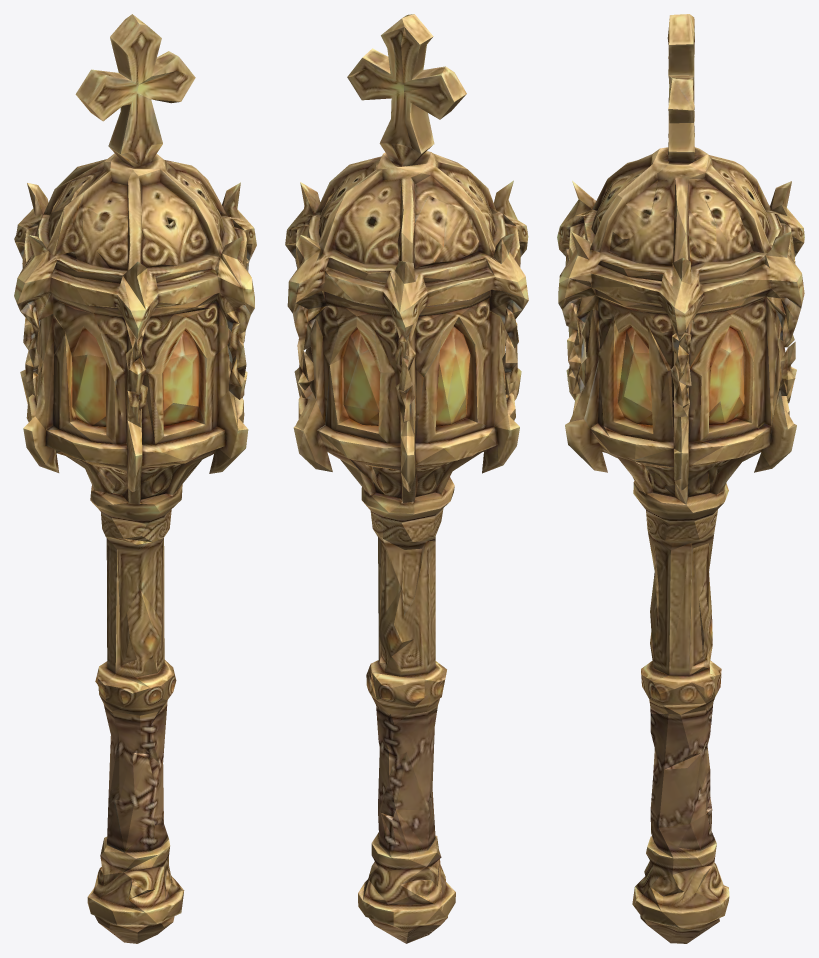
File: turibolo.glb
The picture shows the model from 3 angles, left to right: view 1: azimuth 30°, elevation 25°; view 2: azimuth 150°, elevation 25°; view 3: azimuth 270°, elevation 25°; orthographic projection.
Visible parts, largest first — view 1: Mesh_0; view 2: Mesh_0; view 3: Mesh_0.
Boxes of the visible parts, <box> form: Mesh_0: <box>14,14,256,943</box>; Mesh_0: <box>285,14,528,943</box>; Mesh_0: <box>557,14,804,943</box>.
Size of the model in its own units: 0.5191 by 1.9 by 0.4633.
Materials: 1 (1 with a texture image).
